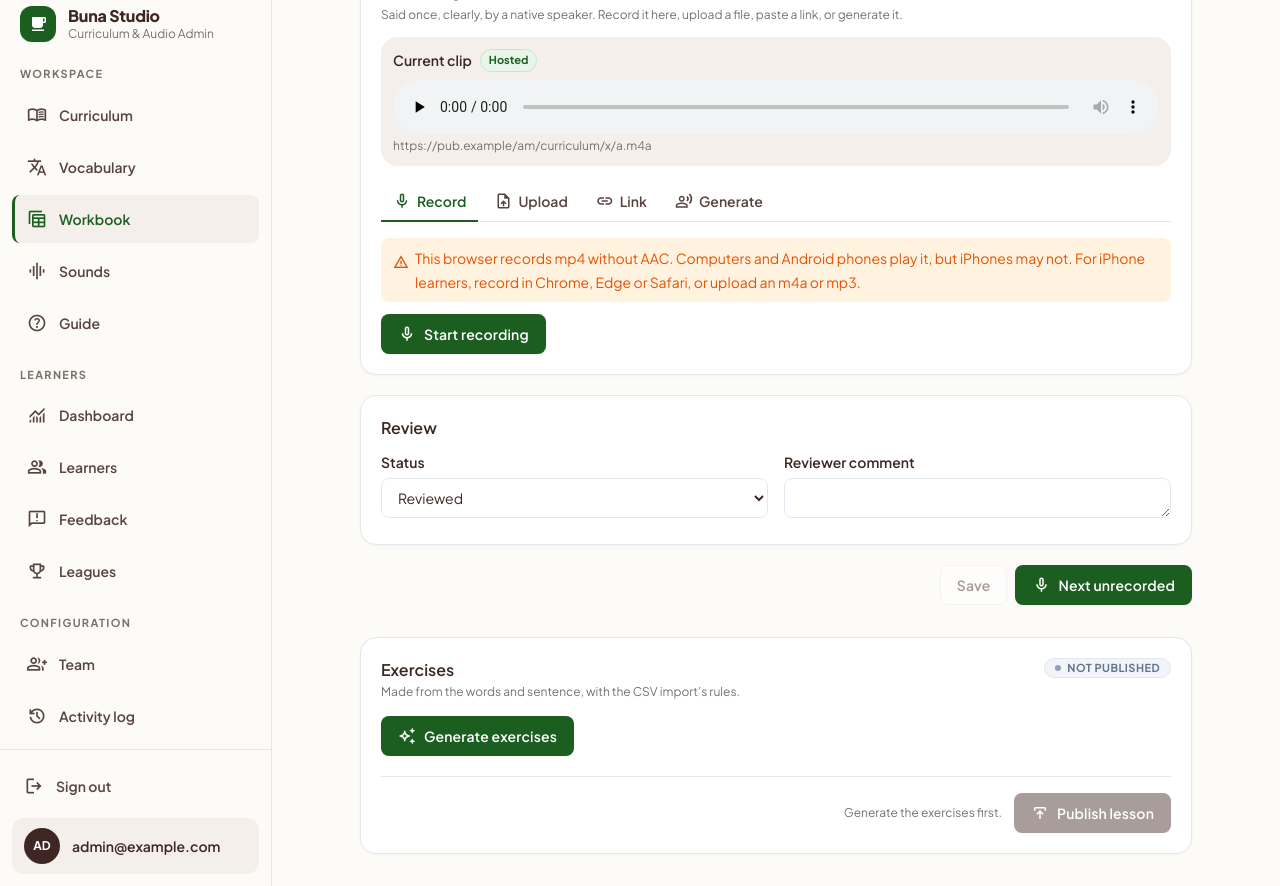
Scenario: a lesson’s exercises › are generated from the rows, saved, and shown as the learner sees them
(page scrolled)
Click the button "Generate exercises" at (478, 736), box [381, 716, 574, 756]
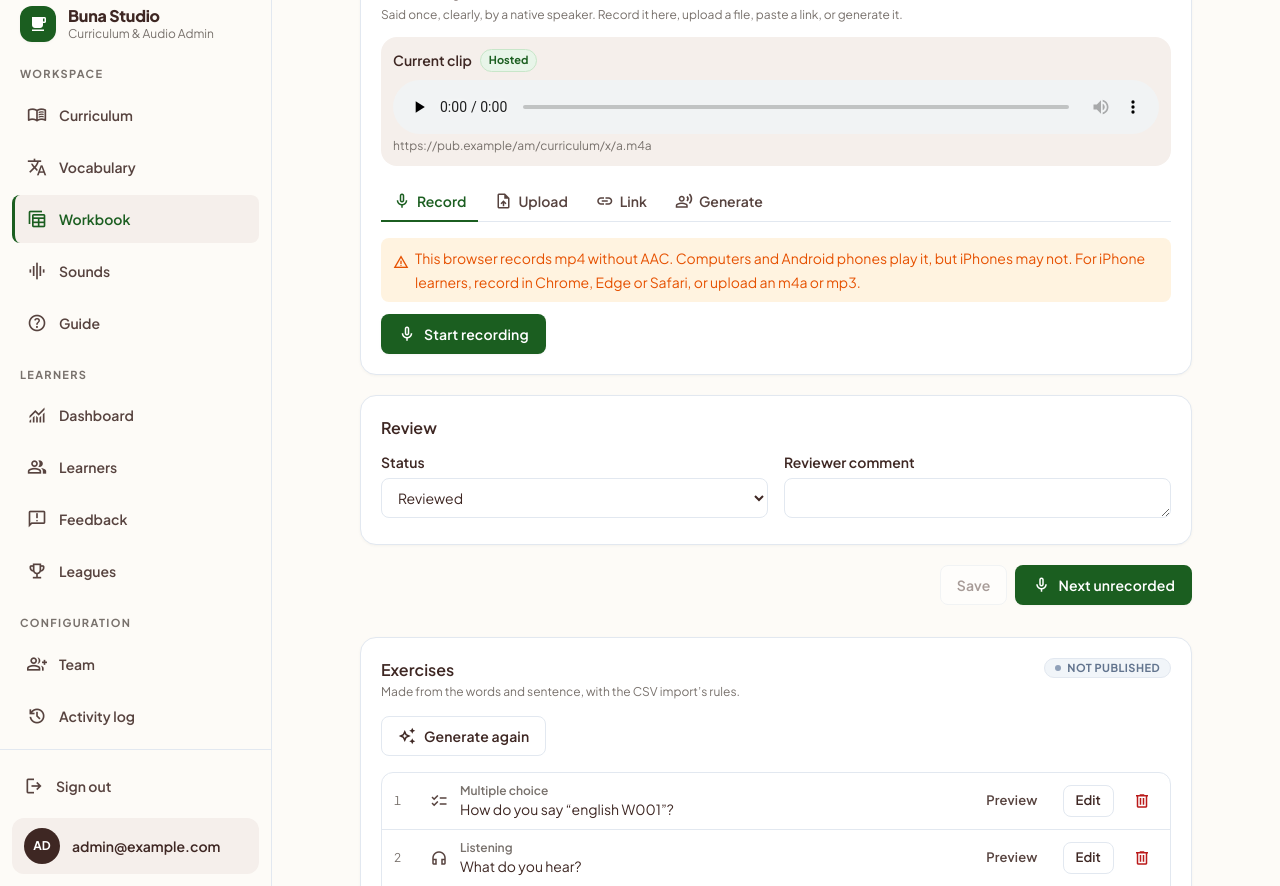
Click the button "Preview" in the row of "How do you say “english W001”?" at (1012, 800), box [973, 784, 1050, 816]
(page scrolled)
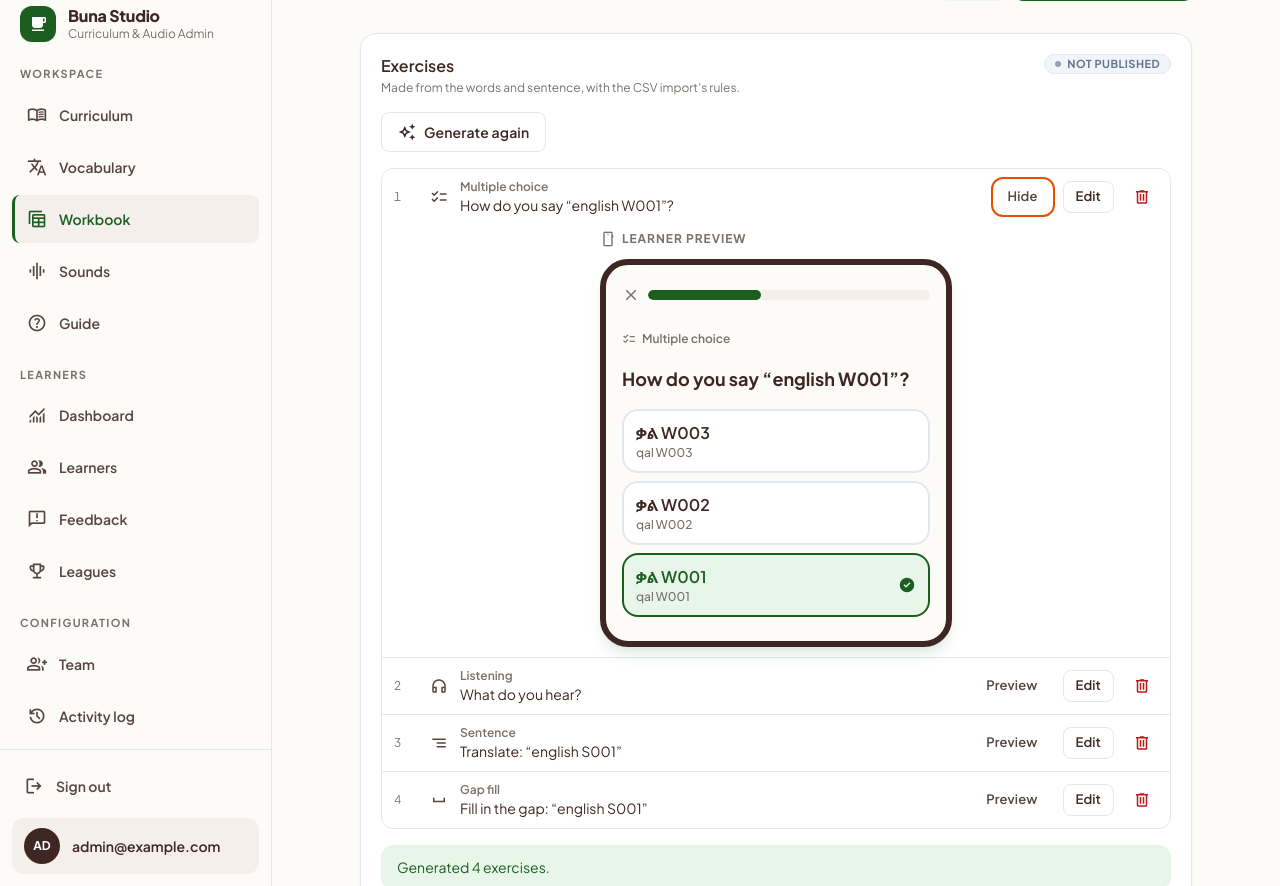
Expected: the element "Learner preview" is shown, [600, 226, 952, 646]
